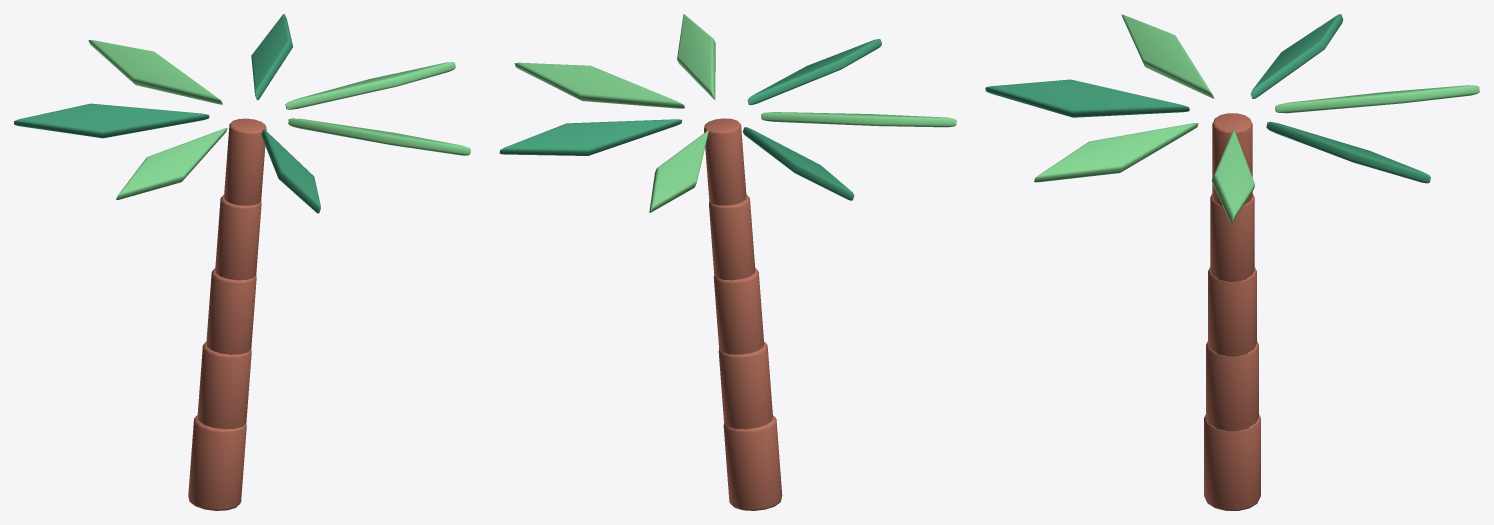
Rendered from r022_sky_lagoon_palm_repetition_palm_01.glb.
3 renders of one model, left to right at view 1: azimuth 30°, elevation 25°; view 2: azimuth 150°, elevation 25°; view 3: azimuth 270°, elevation 25°, orthographic. The views are drawn at different scales.
Parts seen in each view (by area): view 1: r022_sky_lagoon_palm_repetition_palm_01.001; view 2: r022_sky_lagoon_palm_repetition_palm_01.001; view 3: r022_sky_lagoon_palm_repetition_palm_01.001.
Boxes of the visible parts, x1,y1,x2,y2 form: r022_sky_lagoon_palm_repetition_palm_01.001: [14, 14, 470, 510]; r022_sky_lagoon_palm_repetition_palm_01.001: [499, 14, 956, 510]; r022_sky_lagoon_palm_repetition_palm_01.001: [985, 14, 1479, 510].
Bounding box in the file's own units: 4.54 × 4.33 × 4.66.
